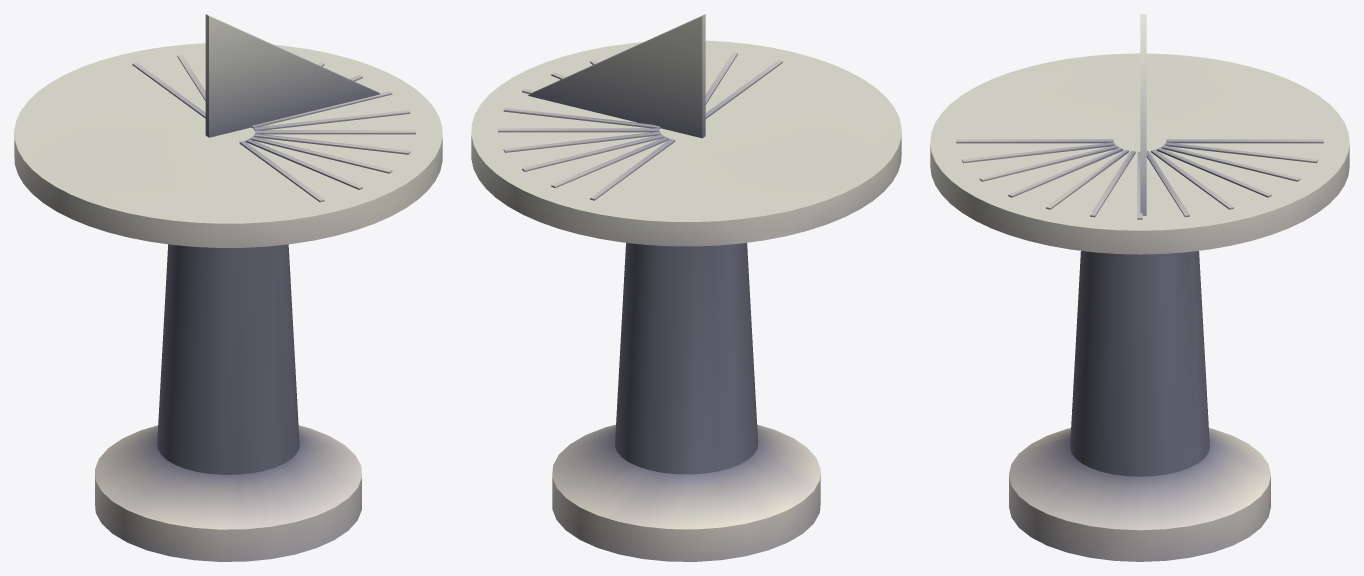
The model's file is moondial.glb.
3 views of the same model, side by side, from view 1: azimuth 30°, elevation 25°; view 2: azimuth 150°, elevation 25°; view 3: azimuth 270°, elevation 25° (orthographic). The views are drawn at different scales.
Visible parts, largest first — view 1: body; view 2: body; view 3: body.
Part boxes in pixels (x1,y1,x2,y2): body: (14, 14, 442, 561); body: (471, 14, 901, 561); body: (930, 14, 1349, 561).
Bounding box in the file's own units: 0.96 × 1.22 × 0.96.
